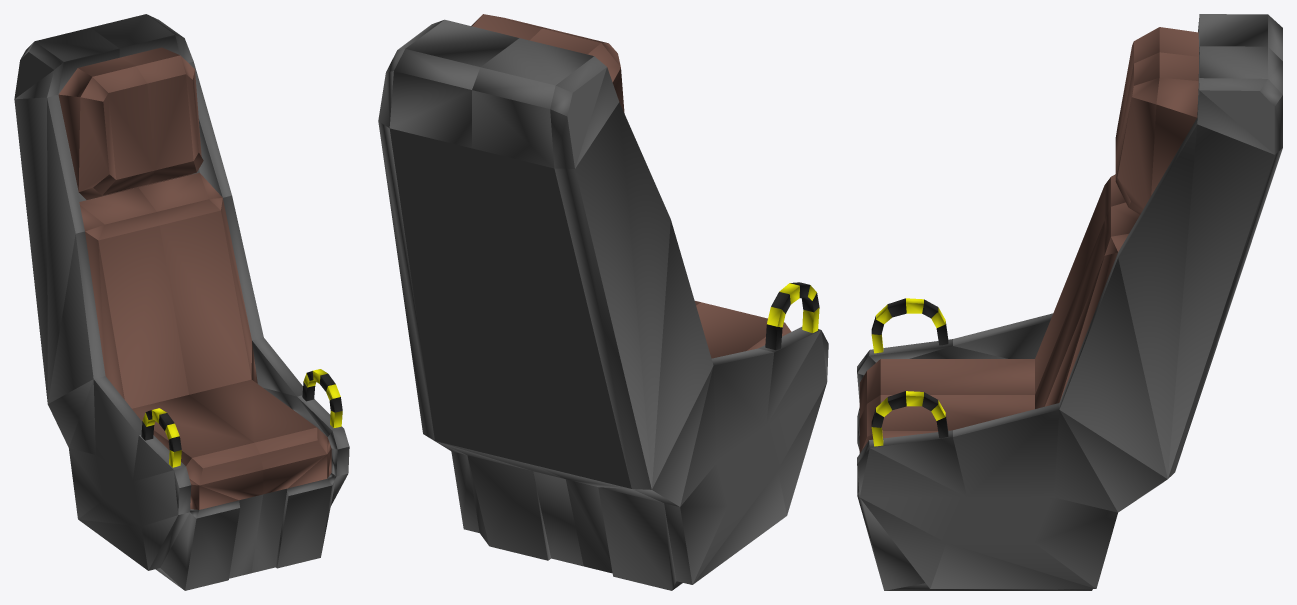
Rendered from ejectiuon seat.glb.
The picture shows the model from 3 angles, left to right: view 1: azimuth 30°, elevation 25°; view 2: azimuth 150°, elevation 25°; view 3: azimuth 270°, elevation 25°; orthographic projection. The views are drawn at different scales.
Visible parts, largest first — view 1: tripo_node_d88eb3fb-7d4c-4aa6-b7b1-d5001e71379c.001; view 2: tripo_node_d88eb3fb-7d4c-4aa6-b7b1-d5001e71379c.001; view 3: tripo_node_d88eb3fb-7d4c-4aa6-b7b1-d5001e71379c.001.
Part boxes in pixels (box(x1,y1,x2,y2)): tripo_node_d88eb3fb-7d4c-4aa6-b7b1-d5001e71379c.001: box(14, 14, 349, 590); tripo_node_d88eb3fb-7d4c-4aa6-b7b1-d5001e71379c.001: box(378, 14, 828, 590); tripo_node_d88eb3fb-7d4c-4aa6-b7b1-d5001e71379c.001: box(857, 14, 1282, 590).
Bounding box in the file's own units: 0.5807 × 1.4 × 1.06.
